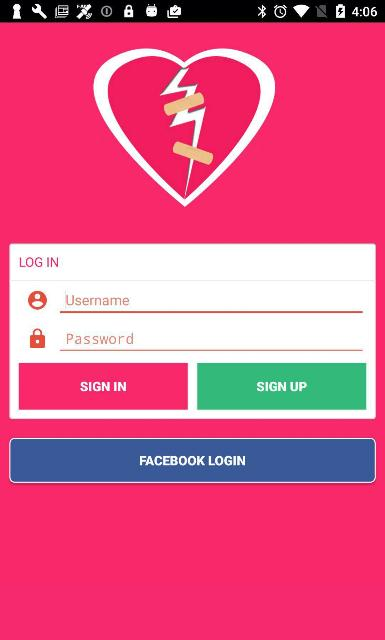EditText: (59, 290, 362, 314), (59, 332, 362, 350)
Icon: (28, 290, 47, 310), (30, 328, 45, 348)
Image: (92, 49, 276, 208)
Text: (140, 456, 246, 466), (66, 332, 133, 343), (66, 295, 129, 305), (257, 382, 307, 392), (80, 381, 126, 391), (20, 256, 58, 268)
TextButton: (9, 438, 376, 482), (18, 362, 188, 410), (198, 362, 366, 410)
UpperTaskBar: (0, 0, 384, 22)
